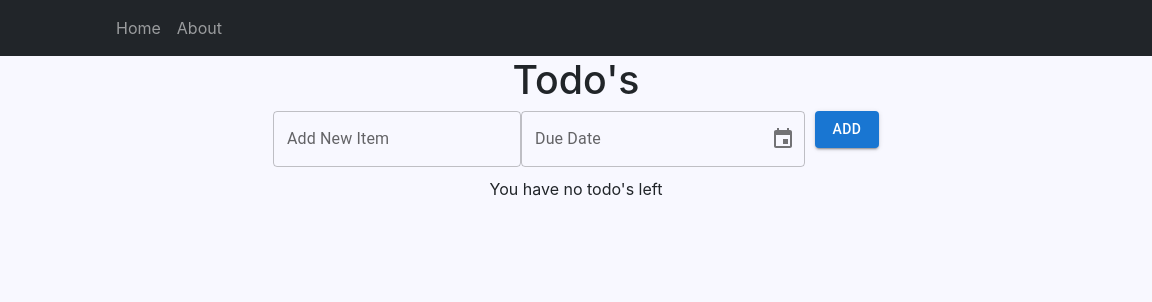
Test: test that App component doesn't add a task without task name
This screenshot has width=1152, height=302.
Type "History Test" into the field labelled "Add New Item" at (397, 139), box 273,111 -> 521,167
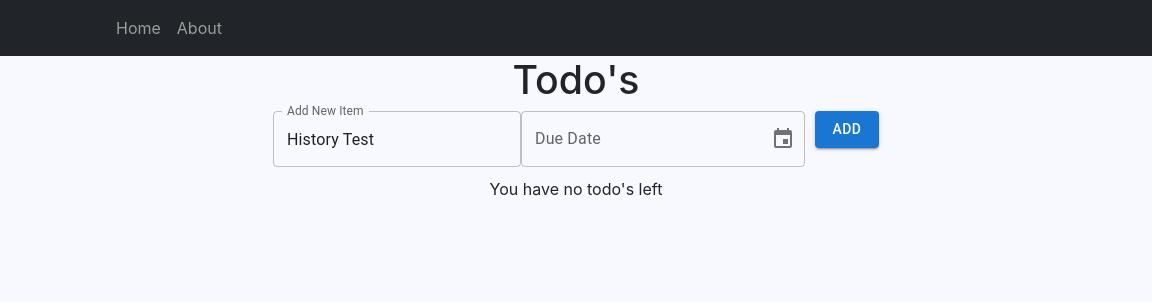
Type "05/30/2023" into the field with placeholder "mm/dd/yyyy" at (638, 139), box 521,111 -> 755,167
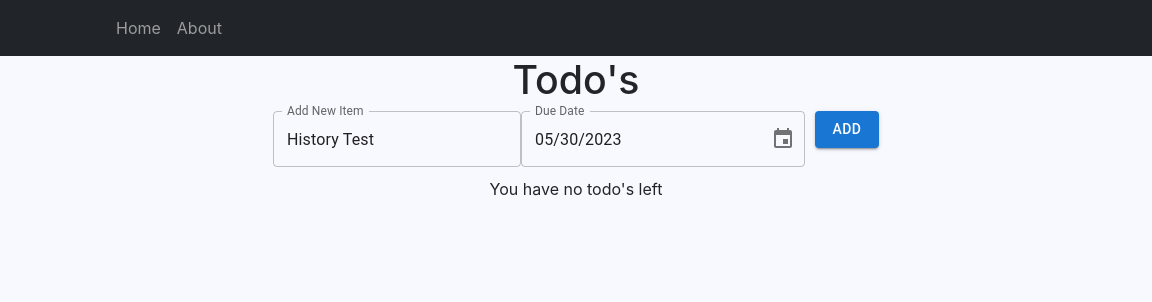
Click the button "Add" at (847, 129), box 815,111 -> 879,148
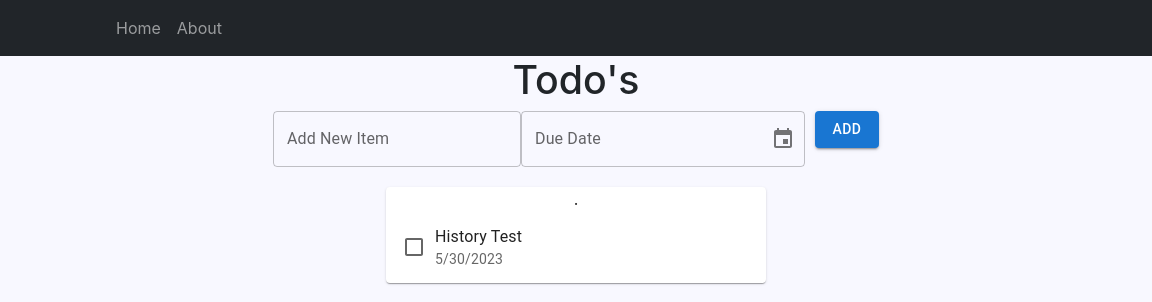
Expected: the text "History Test" is shown, 435,227 -> 522,246
